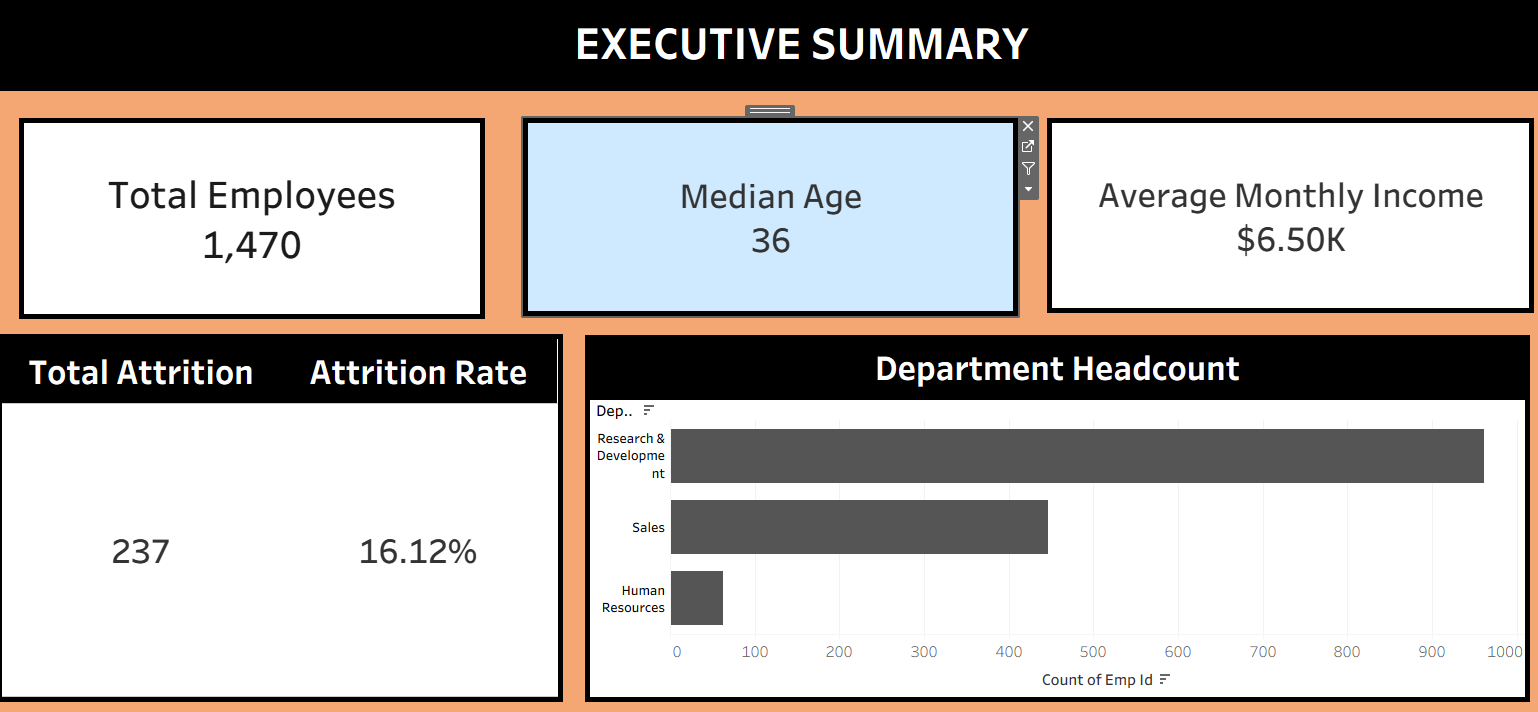

What the dashboard file says about the page in this screenshot:
{"tool":"tableau","page":{"name":"EXECUTIVE SUMMARY","canvas":[1000,1000],"units":"permille","ordinal":2},"visuals":[{"type":"text","box":[5.2,8.9,948.3,127.4]},{"type":"worksheet","title":"TOTAL EMPLOYEE KPI","mark":"Automatic","box":[24.4,170.7,270.9,256.1]},{"type":"worksheet","title":"MEDIAN AGE ","mark":"Automatic","box":[317.4,170.7,287.8,252.2]},{"type":"worksheet","title":"AVG INCOME","mark":"Automatic","box":[622.1,170.7,283.1,248.4]},{"type":"worksheet","title":"ATTRITION RATE","mark":"Automatic","box":[11.6,445.9,329.1,468.8]},{"type":"worksheet","title":"Department Headcount","mark":"Automatic","rows":["Department"],"cols":["emp_id"],"box":[353.5,447.1,549.4,467.5]}]}

Visuals, with their boxes on the dashboard's canvas, which has no fixed pixel size, in thousandths of its width and height (x1, y1, x2, y2). These are canvas units, not pixel positions in the 1538x712 screenshot, which may show the page scaled, cropped or inside an application window:
text: region(5, 9, 954, 136)
"TOTAL EMPLOYEE KPI" worksheet: region(24, 171, 295, 427)
"MEDIAN AGE " worksheet: region(317, 171, 605, 423)
"AVG INCOME" worksheet: region(622, 171, 905, 419)
"ATTRITION RATE" worksheet: region(12, 446, 341, 915)
"Department Headcount" worksheet: region(354, 447, 903, 915)
